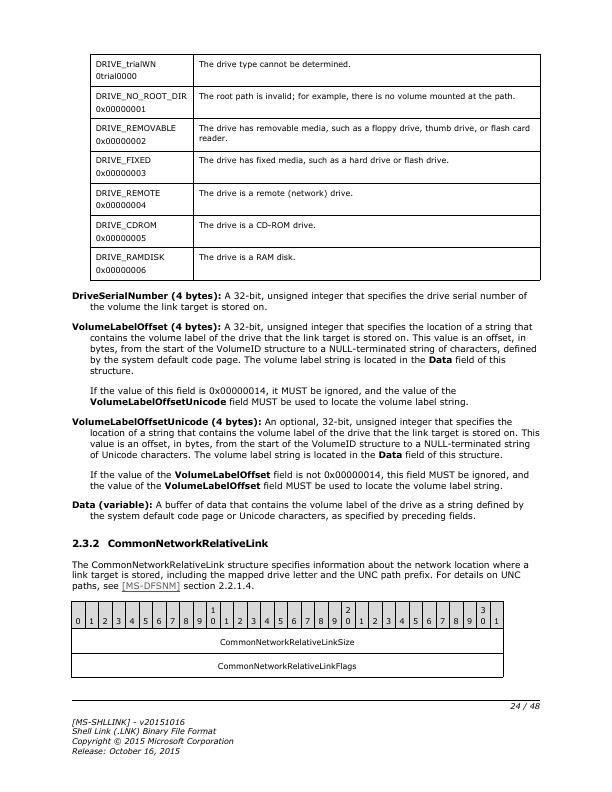table: (86, 52, 543, 284), (70, 600, 507, 681)
text: (68, 321, 538, 378), (68, 415, 543, 461), (68, 557, 533, 594), (68, 498, 527, 523), (86, 468, 532, 493), (71, 289, 529, 313), (86, 384, 470, 410), (68, 715, 235, 757), (70, 536, 269, 553)
